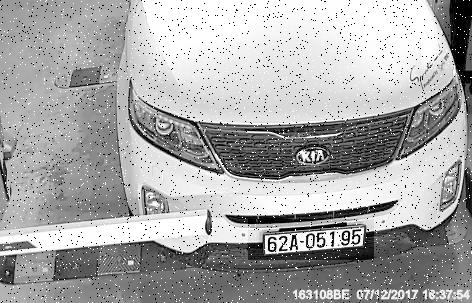License-plate: (250, 220, 377, 261)
